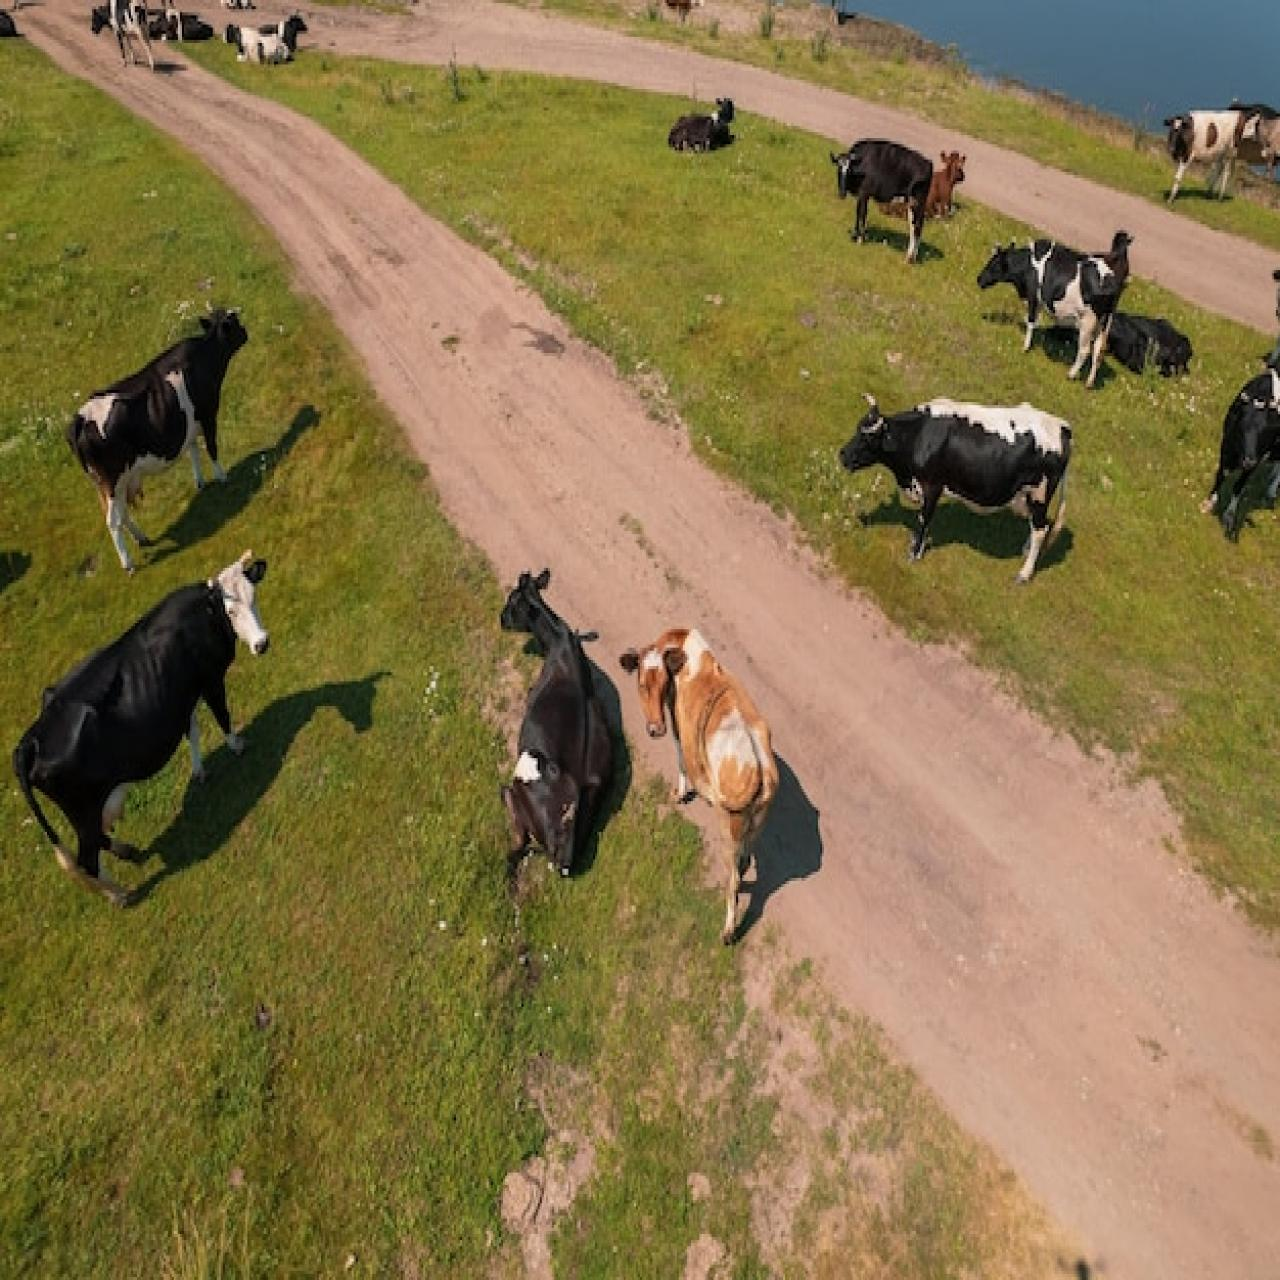cow: (0, 549, 316, 925), (628, 624, 842, 967), (835, 376, 1094, 606), (59, 305, 260, 580), (477, 551, 613, 896), (965, 222, 1135, 386), (1200, 346, 1280, 554), (830, 143, 938, 272), (1155, 94, 1275, 207), (896, 137, 974, 227), (86, 0, 157, 74), (669, 89, 737, 157), (218, 16, 300, 63), (248, 7, 314, 50)
